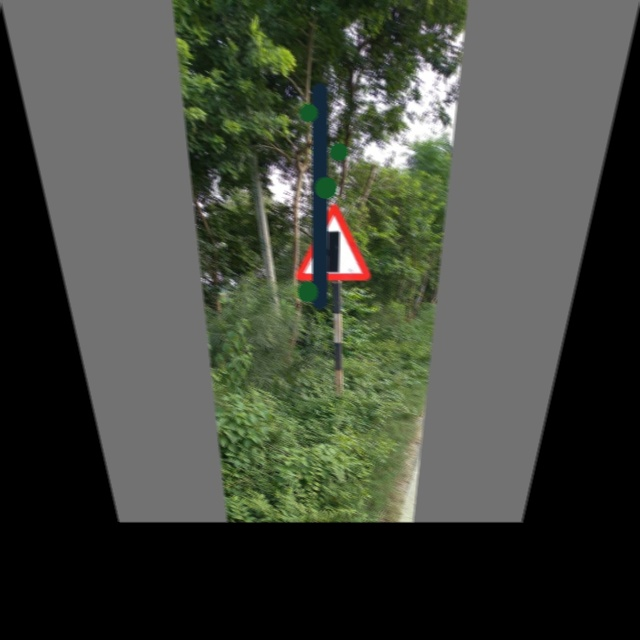Side_Road_Left: (290, 205, 368, 280)
